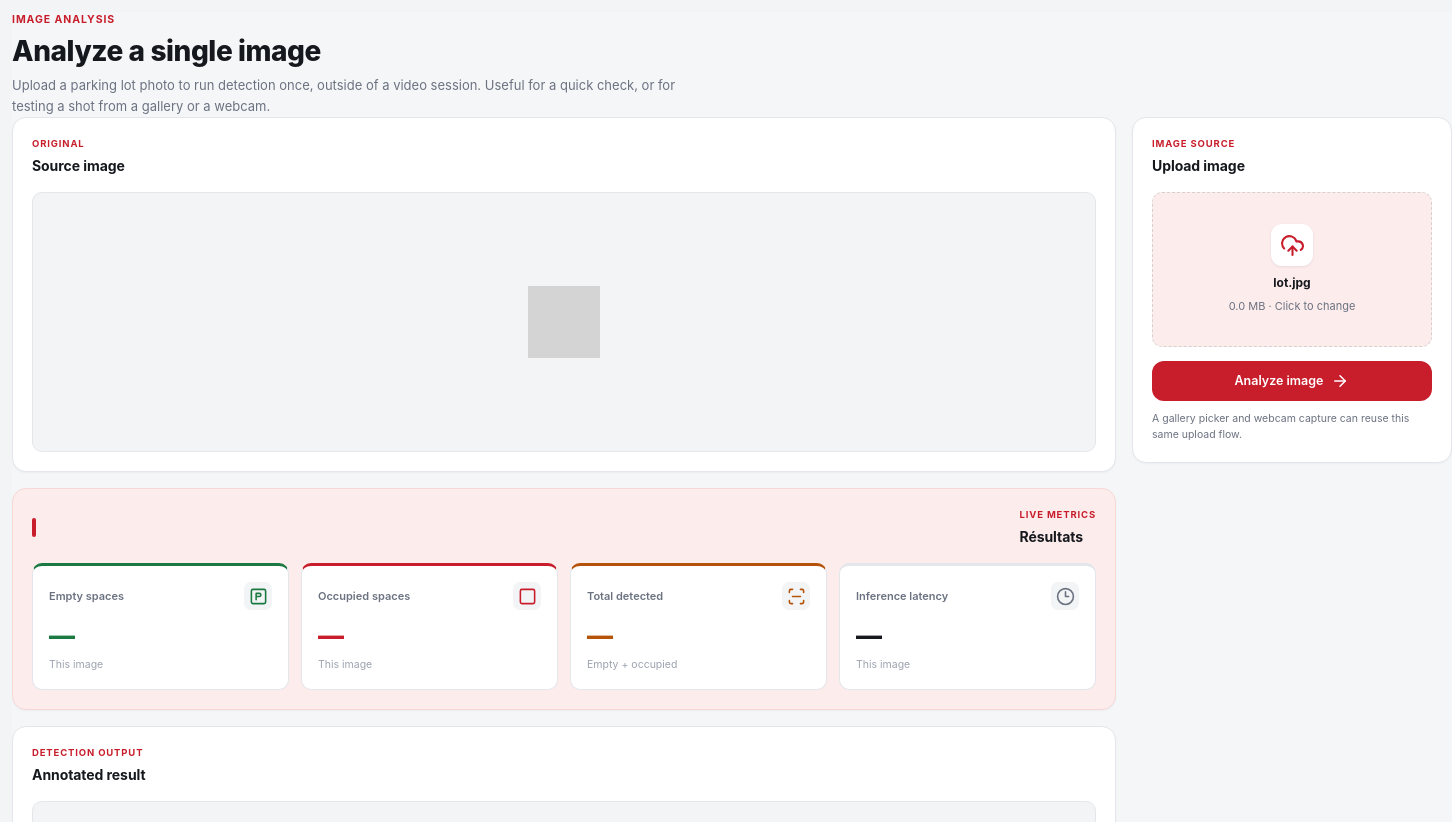
Scenario: ImagePage › falls back to a generic message for unexpected failures
Earlier steps of the test are not shown.
What coordinates should you click on to do the following:
click the button "Analyze image"
I would click on:
 (1292, 381)
Its box is left=1152, top=361, right=1432, bottom=401.
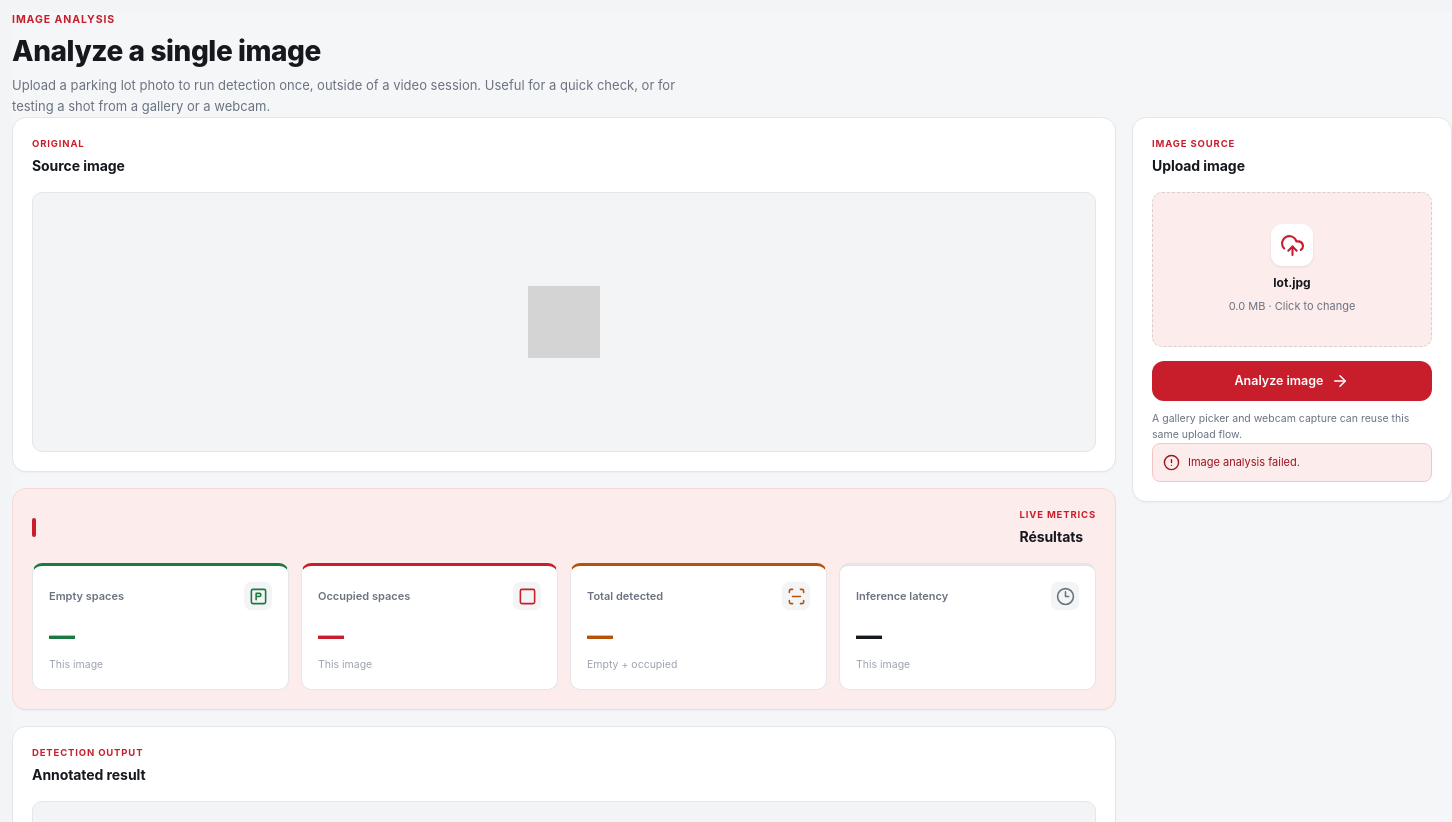
Now the text "Image analysis failed." is shown, box left=1152, top=443, right=1432, bottom=482
